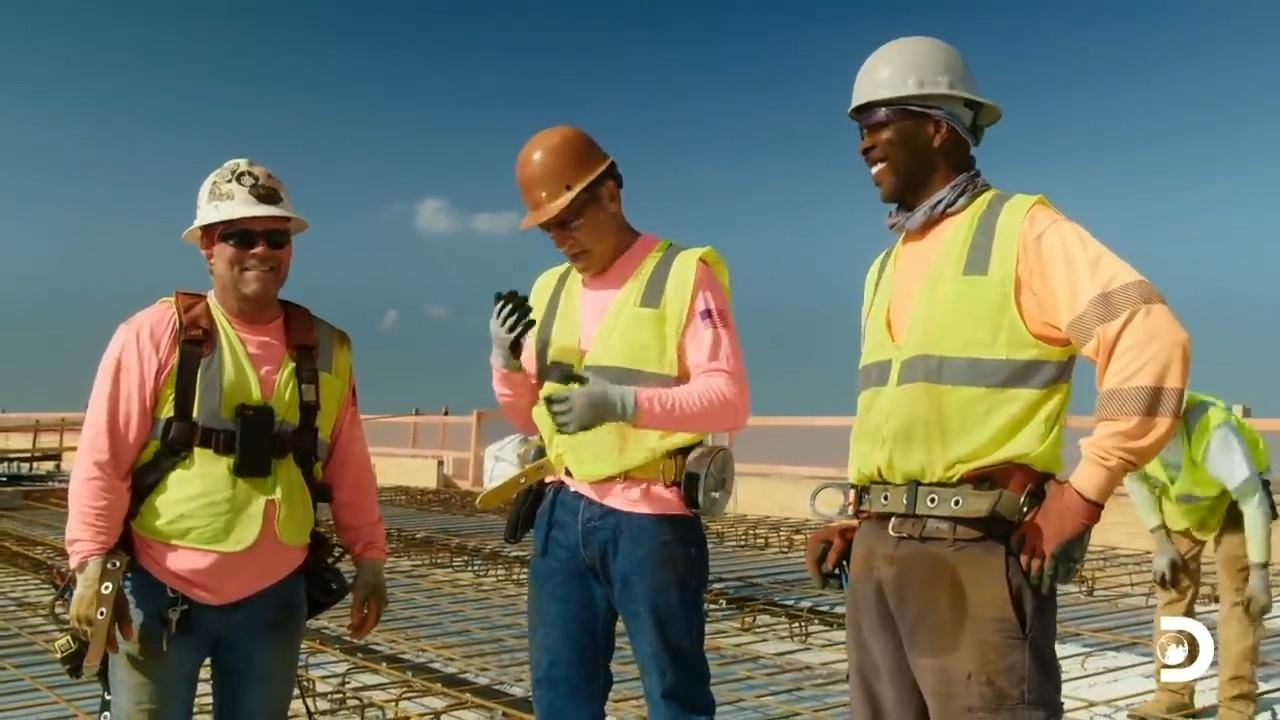Gloves: (1012, 477, 1099, 573), (66, 563, 144, 647), (536, 372, 623, 437), (485, 291, 534, 369), (806, 522, 855, 600), (353, 564, 392, 634), (1152, 550, 1191, 592), (1240, 566, 1270, 620)
Helmet: (847, 34, 1002, 144), (181, 157, 308, 246), (514, 124, 614, 231)
Person: (803, 34, 1191, 719), (64, 157, 389, 719), (486, 124, 750, 719), (1120, 389, 1276, 719)
Safety Boot: (1122, 689, 1199, 720)
Safety Vest: (870, 252, 1056, 475), (156, 313, 321, 551), (539, 277, 691, 492), (1166, 439, 1253, 528)
